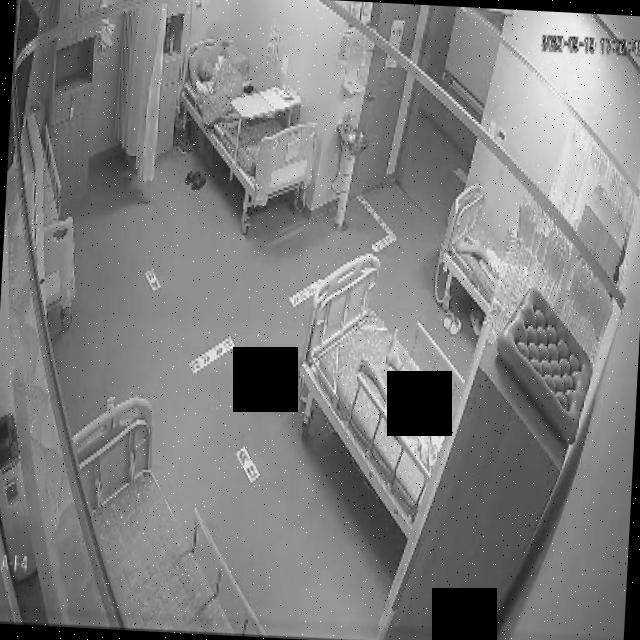bed: (62, 390, 278, 638), (294, 252, 462, 533), (176, 38, 320, 208), (437, 184, 509, 315)
lie: (356, 324, 458, 472), (190, 46, 276, 136)
patient: (357, 325, 457, 473), (192, 48, 230, 101)
